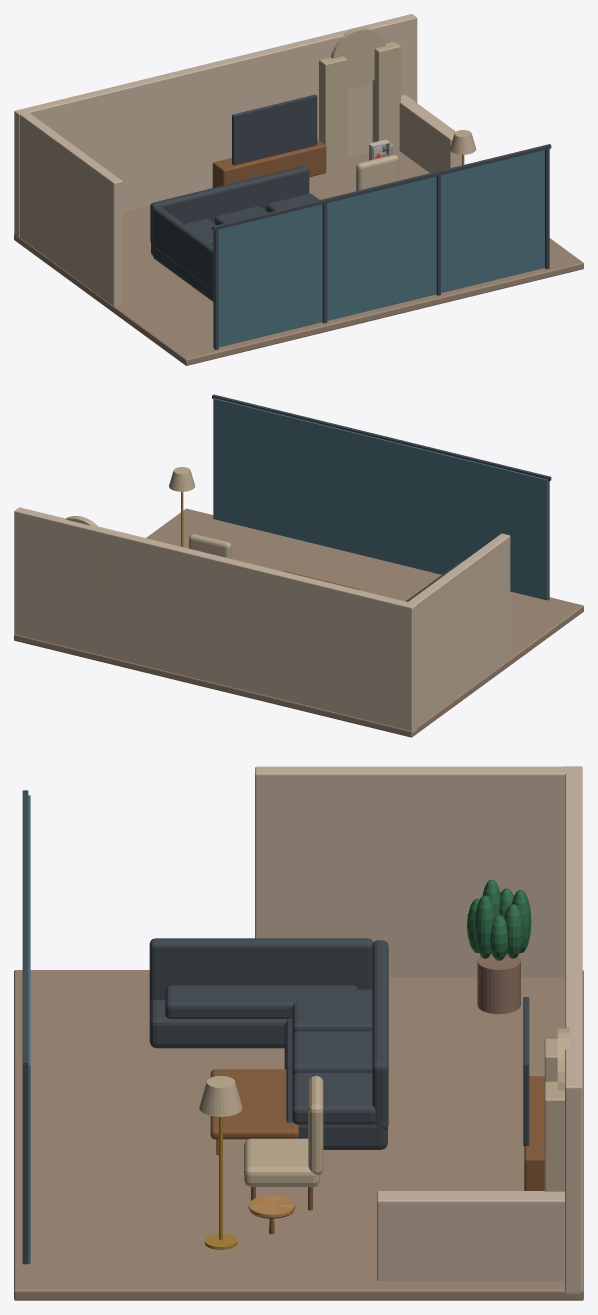
The model's file is resp-001-villa-dressing.glb.
3 renders of one model, top to bottom at view 1: azimuth 30°, elevation 25°; view 2: azimuth 150°, elevation 25°; view 3: azimuth 270°, elevation 25°, orthographic. The views are drawn at different scales.
Visible parts, largest first — view 1: Glass_façade, Back_plaster_wall, Travertine_floor, Left_return_wall, Television, Sofa_back, Right_low_divider, Hall_opening_left_pier, Sofa_chaise_back, Hall_opening_right_pier, Media_console, Hall_arch_curve (+10 smaller); view 2: Back_plaster_wall, Glass_façade, Travertine_floor, Left_return_wall, Window_head, Reading_chair_back, Floor_lamp_shade; view 3: Travertine_floor, Left_return_wall, Right_low_divider, Sofa_chaise_back, Back_plaster_wall, Chaise_cushion, Coffee_table_top, Sofa_chaise, Sofa_cushion_2, Sofa_cushion_1, Reading_chair_seat, Sofa_back (+15 smaller).
Part boxes in pixels (x1,y1,x2,y2): Glass_façade: [213, 150, 544, 348]; Back_plaster_wall: [14, 14, 417, 238]; Travertine_floor: [14, 151, 583, 365]; Left_return_wall: [20, 112, 122, 306]; Television: [232, 94, 317, 165]; Sofa_back: [150, 166, 309, 242]; Right_low_divider: [399, 95, 461, 172]; Hall_opening_left_pier: [319, 56, 347, 168]; Sofa_chaise_back: [152, 206, 213, 290]; Hall_opening_right_pier: [372, 41, 400, 153]; Media_console: [212, 139, 326, 187]; Hall_arch_curve: [331, 27, 385, 88]; Back_plaster_wall: [14, 507, 417, 732]; Glass_façade: [213, 398, 548, 600]; Travertine_floor: [14, 508, 583, 737]; Left_return_wall: [407, 533, 510, 726]; Window_head: [212, 394, 551, 480]; Reading_chair_back: [189, 533, 231, 558]; Floor_lamp_shade: [169, 467, 195, 491]; Travertine_floor: [14, 970, 583, 1300]; Left_return_wall: [255, 766, 571, 977]; Right_low_divider: [377, 1191, 564, 1281]; Sofa_chaise_back: [149, 938, 373, 1003]; Back_plaster_wall: [565, 766, 582, 1294]; Chaise_cushion: [165, 985, 357, 1018]; Coffee_table_top: [210, 1069, 298, 1139]; Sofa_chaise: [149, 1000, 287, 1048]; Sofa_cushion_2: [292, 1072, 375, 1124]; Sofa_cushion_1: [292, 1031, 372, 1076]; Reading_chair_seat: [244, 1138, 319, 1186]; Sofa_back: [372, 940, 388, 1129].
Bounding box in the file's own units: 11.2 × 3.58 × 8.4.
